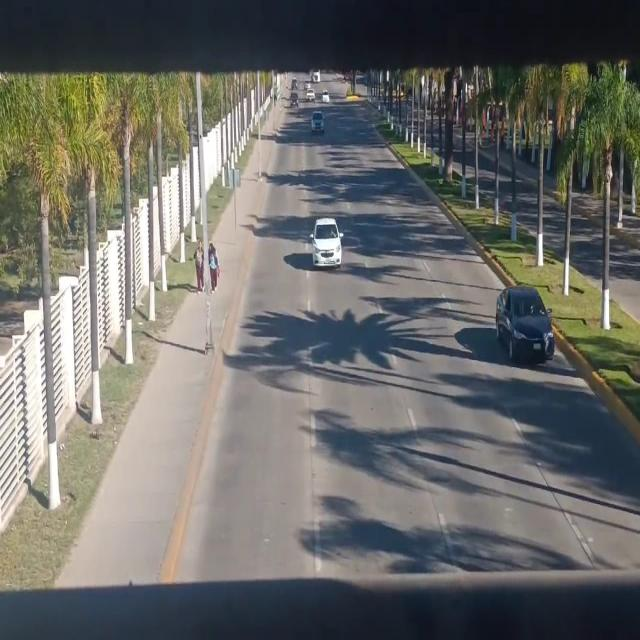Auto: (494, 282, 554, 362), (310, 215, 343, 270), (310, 110, 326, 137)
Peaton: (191, 235, 206, 293), (206, 238, 221, 292)
